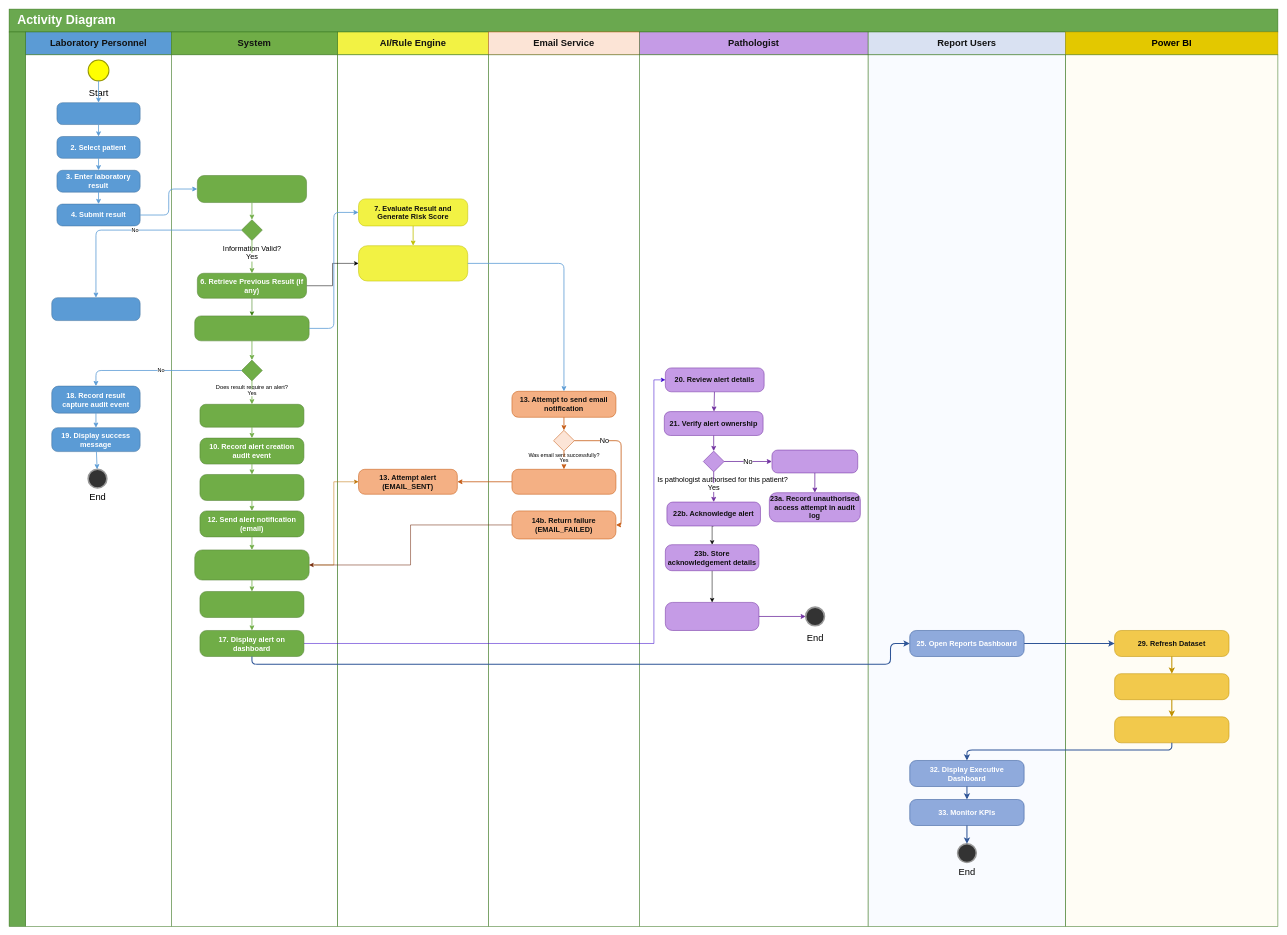
Some shapes in this 1287 by 935 pixel diagram are drawn without their labels. The shapes that lost their labels are listed below. From the top down, each one's centre as x and y in pixels, then its label:
At (98,113): "1. Log in to the system".
At (252,189): "5. Validate submitted Result Information".
At (413,263): "Return classification, severity, risk score, explanation and alert decision".
At (95,309): "Show Validation Error".
At (251,328): "8. Store evaluated result in database".
At (251,415): "9. Create alert".
At (17,478): "Phase".
At (563,481): "14a. Return success (EMAIL_SENT)".
At (814,461): "22a. Reject request".
At (251,487): "11. Get assigned pathologist details".
At (251,564): "15. Update alert notification status (EMAIL_SENT/EMAIL_FAILED)".
At (251,604): "16. Record email outcome in audit log".
At (712,616): "24. Record acknowledgement audit event".
At (1171,686): "30. Load Alert Metrics".
At (1171,729): "31. Generate Visualizations".
